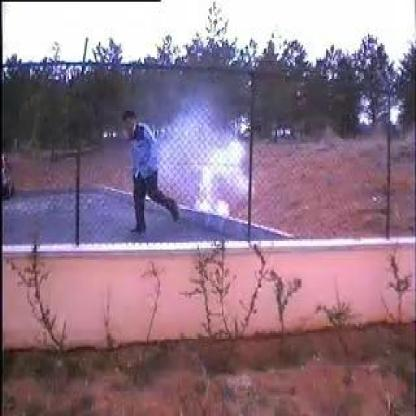-: (162, 106, 249, 209)
